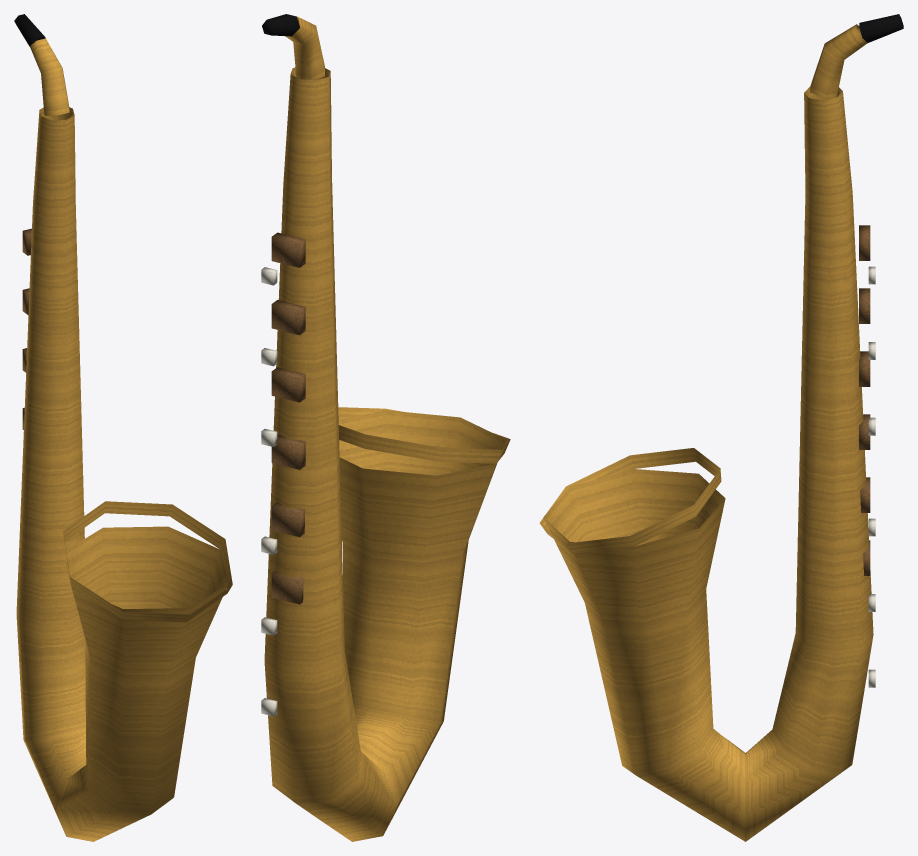
The model's file is tenor_sax_1.glb.
3 renders of one model, left to right at view 1: azimuth 30°, elevation 25°; view 2: azimuth 150°, elevation 25°; view 3: azimuth 270°, elevation 25°, orthographic. The views are drawn at different scales.
Visible parts, largest first — view 1: tenor_sax_1; view 2: tenor_sax_1; view 3: tenor_sax_1.
Boxes of the visible parts, left/top/right/bottom form: tenor_sax_1: left=14, top=14, right=232, bottom=841; tenor_sax_1: left=261, top=14, right=510, bottom=841; tenor_sax_1: left=539, top=14, right=903, bottom=841.
Bounding box in the file's own units: 0.1716 × 0.8182 × 0.3274.
4 materials, 4 textured.
